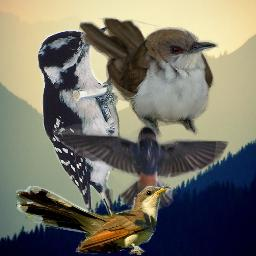Cuckoo: (79, 17, 219, 141), (16, 186, 171, 255)
Swallow: (48, 123, 231, 211)
Woodpecker: (37, 26, 124, 226)
